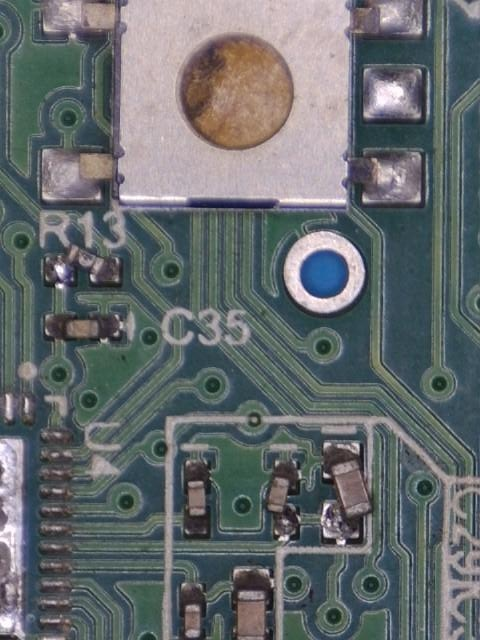pcb_defect: (322, 440, 373, 539), (43, 244, 121, 285), (267, 460, 297, 536)
